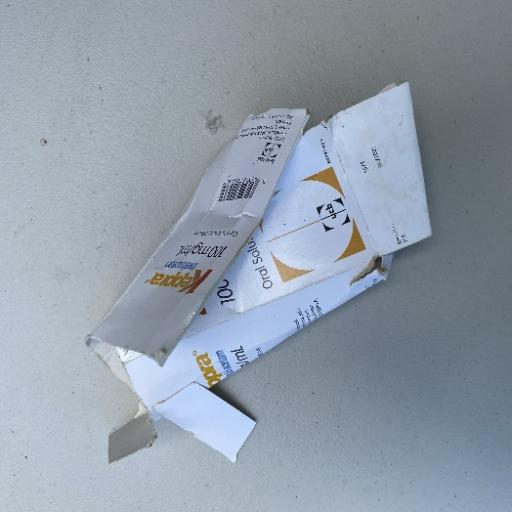Cardboard: (84, 78, 435, 465), (85, 104, 312, 364)
